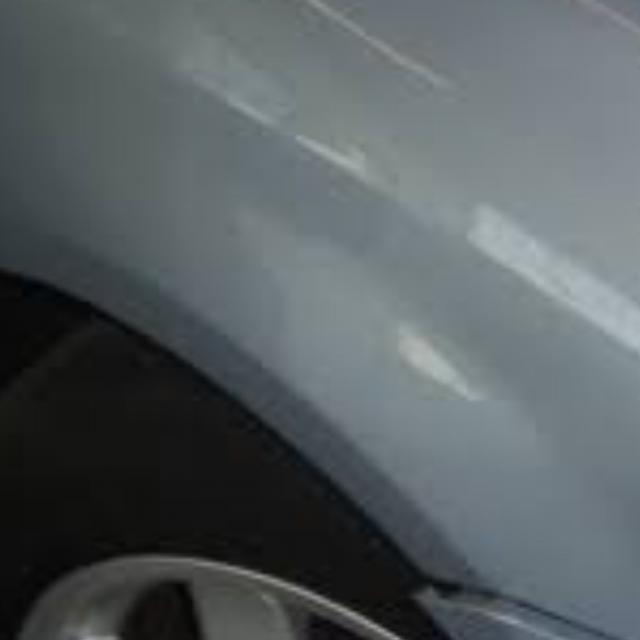dents: (224, 108, 422, 320)
